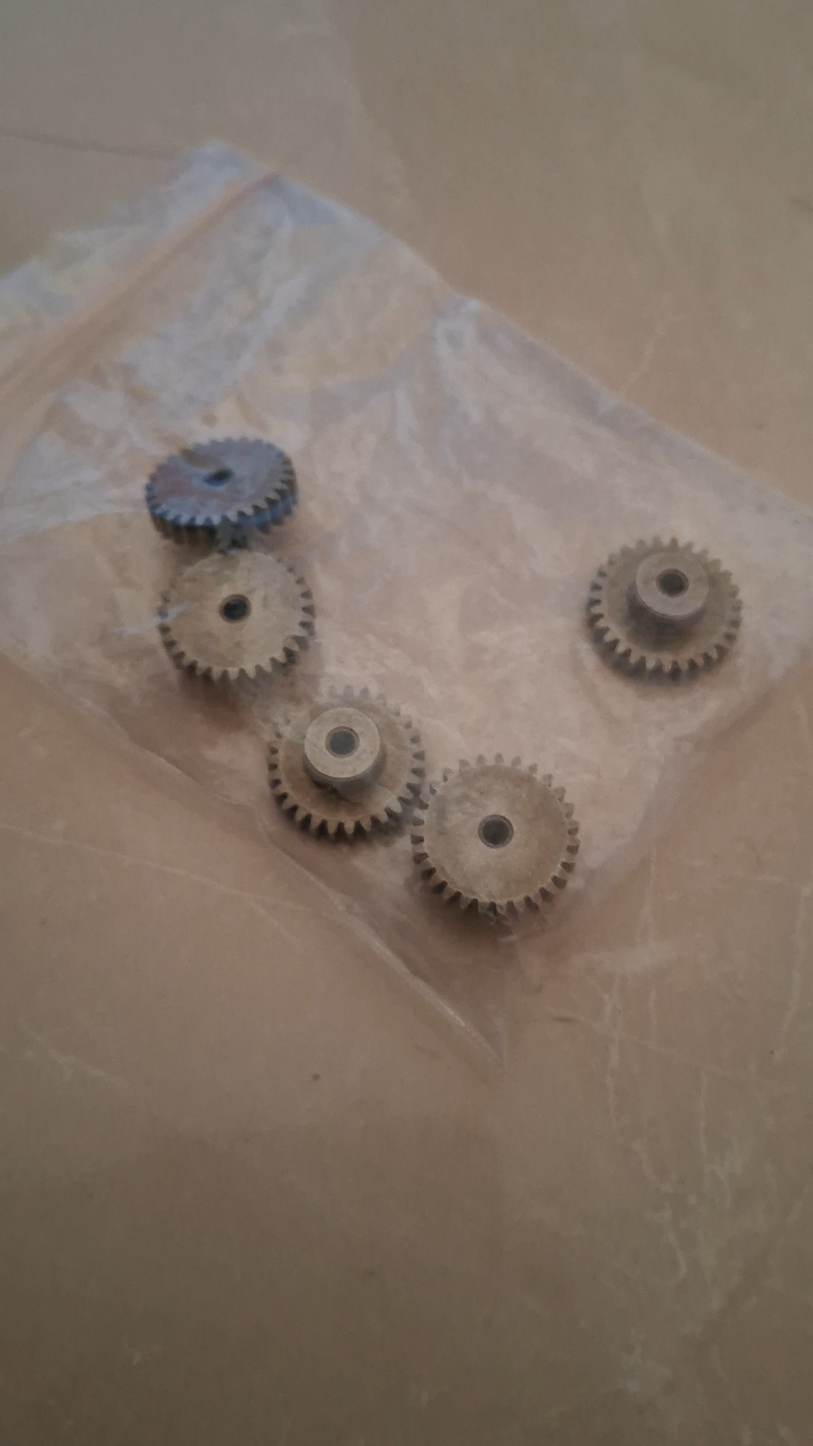spur gear: (411, 755, 579, 915), (269, 688, 424, 839), (588, 538, 741, 676), (159, 550, 314, 680), (146, 438, 297, 540)
